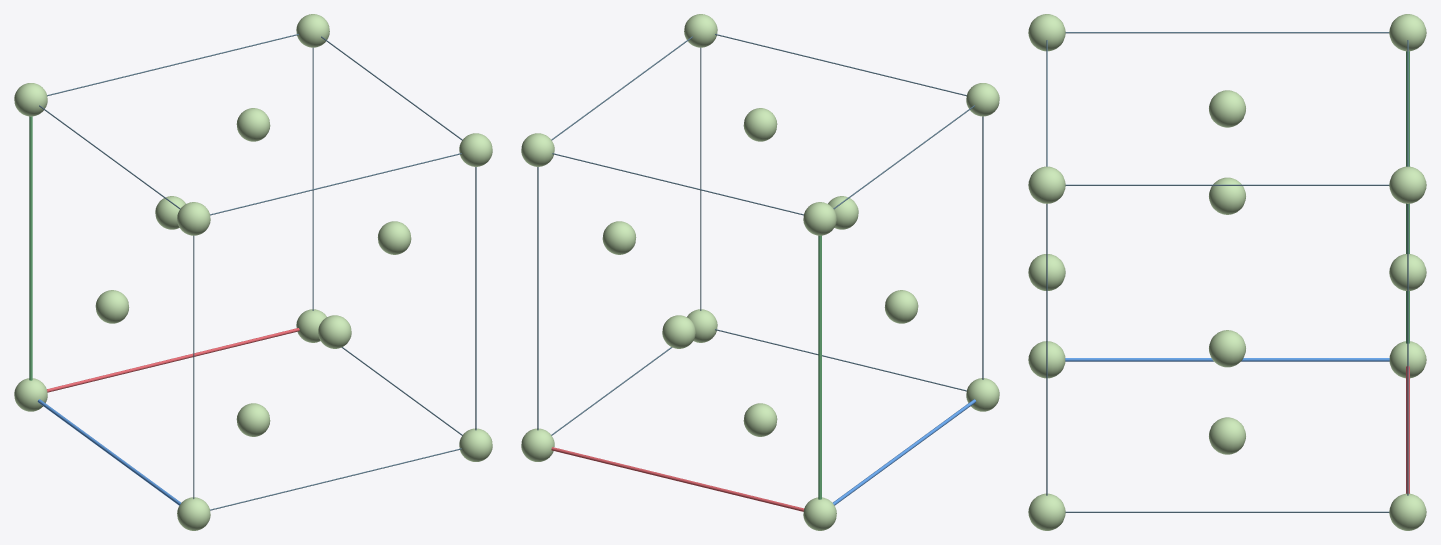
The model's file is chat-solid-xenon.glb.
3 renders of one model, left to right at view 1: azimuth 30°, elevation 25°; view 2: azimuth 150°, elevation 25°; view 3: azimuth 270°, elevation 25°, orthographic. The views are drawn at different scales.
Visible parts, largest first — view 1: Xe · Xe · 1 (×14), Ô mạng và các trục a, b, c; view 2: Xe · Xe · 1 (×14), Ô mạng và các trục a, b, c; view 3: Xe · Xe · 1 (×14), Ô mạng và các trục a, b, c.
Boxes of the visible parts, x1,y1,x2,y2 form: Xe · Xe · 1 (×14): (14, 14, 492, 530); Ô mạng và các trục a, b, c: (29, 34, 476, 510); Xe · Xe · 1 (×14): (521, 14, 999, 530); Ô mạng và các trục a, b, c: (537, 34, 983, 511); Xe · Xe · 1 (×14): (1028, 14, 1426, 530); Ô mạng và các trục a, b, c: (1046, 32, 1409, 512).
Bounding box in the file's own units: 6.82 × 6.82 × 6.82.
